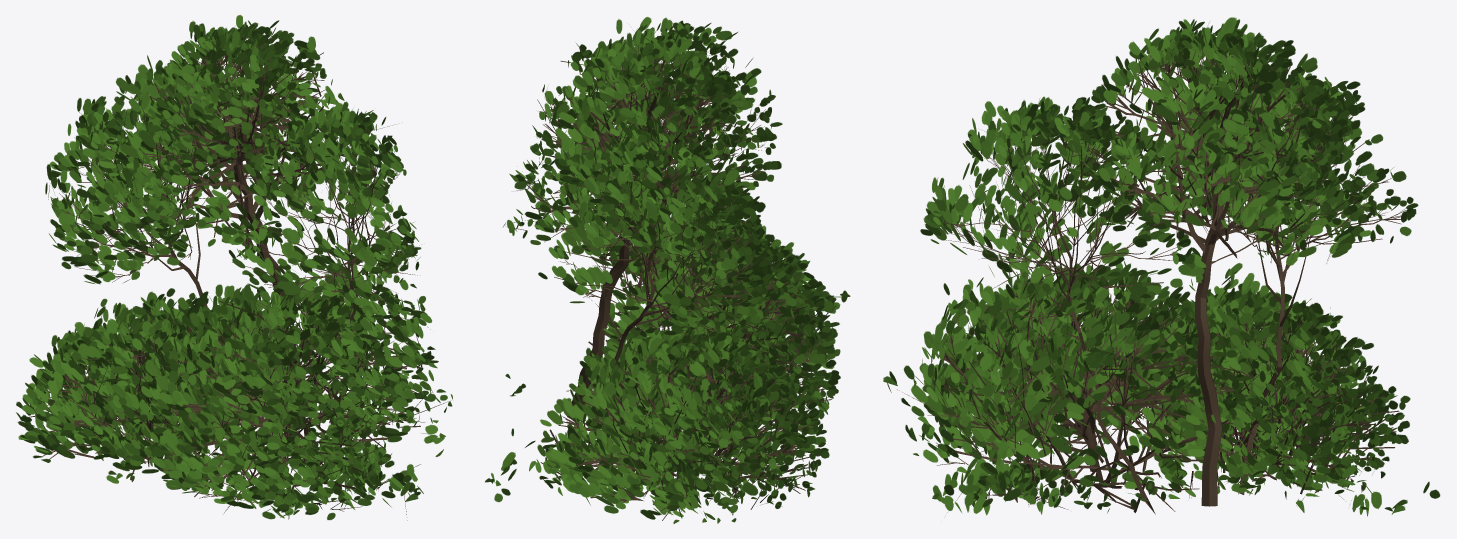
The picture shows the model from 3 angles, left to right: view 1: azimuth 30°, elevation 25°; view 2: azimuth 150°, elevation 25°; view 3: azimuth 270°, elevation 25°; orthographic projection. The views are drawn at different scales.
Visible parts, largest first — view 1: oak 01.001_trunk_Mat.001_0.352; view 2: oak 01.001_trunk_Mat.001_0.352; view 3: oak 01.001_trunk_Mat.001_0.352.
Boxes of the visible parts, bbox=[...] form: oak 01.001_trunk_Mat.001_0.352: bbox=[16, 15, 453, 520]; oak 01.001_trunk_Mat.001_0.352: bbox=[485, 17, 850, 523]; oak 01.001_trunk_Mat.001_0.352: bbox=[883, 17, 1440, 516].
Size of the model in its own units: 3.34 by 4.71 by 4.97.
Materials: 2 (1 with a texture image).
